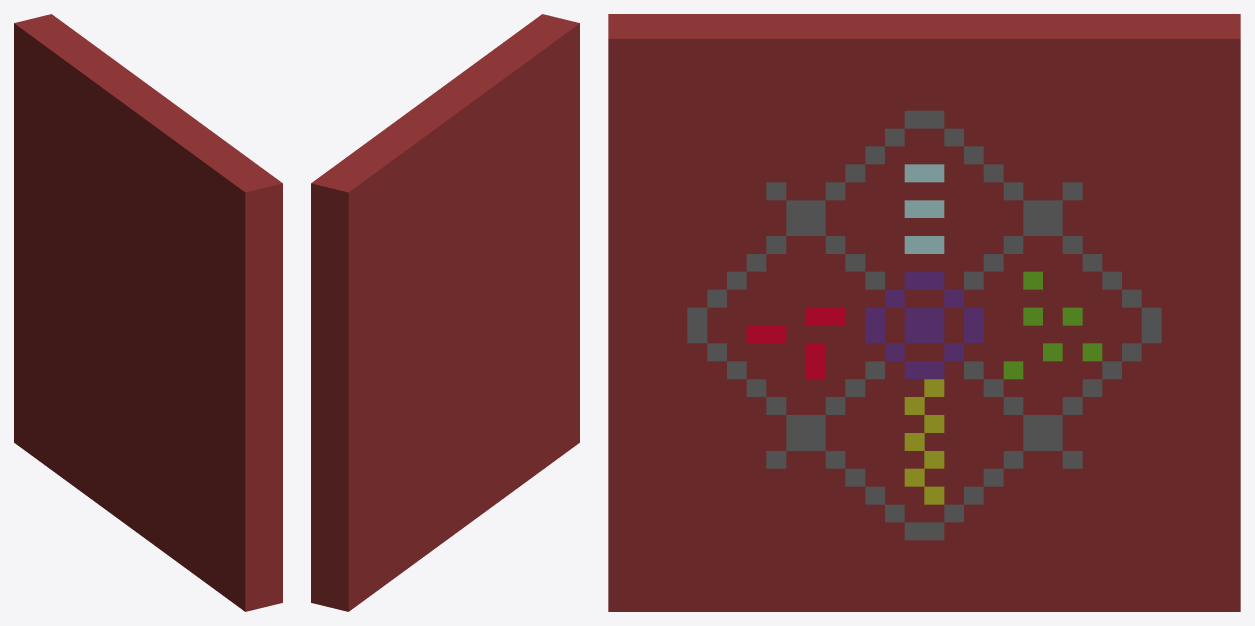
File: SpellBook-2.obj
3 renders of one model, left to right at view 1: azimuth 30°, elevation 25°; view 2: azimuth 150°, elevation 25°; view 3: azimuth 270°, elevation 25°, orthographic. The views are drawn at different scales.
Bounding box in the file's own units: 0.3 × 3.2 × 3.2.
1 material, 1 textured.
